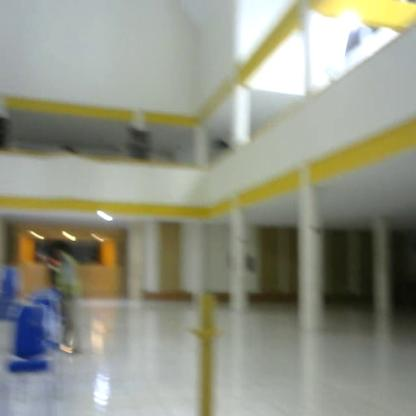pole: (183, 283, 235, 416)
